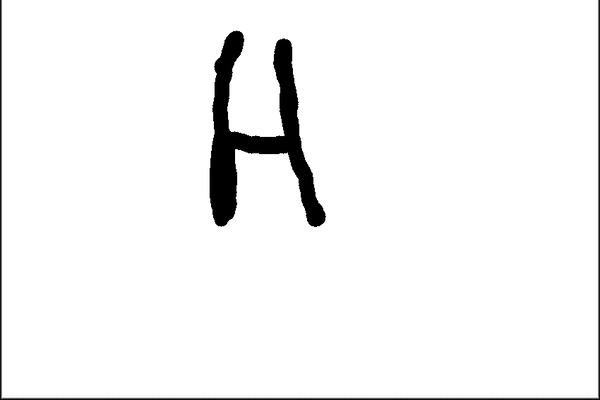H: (205, 24, 327, 235)
